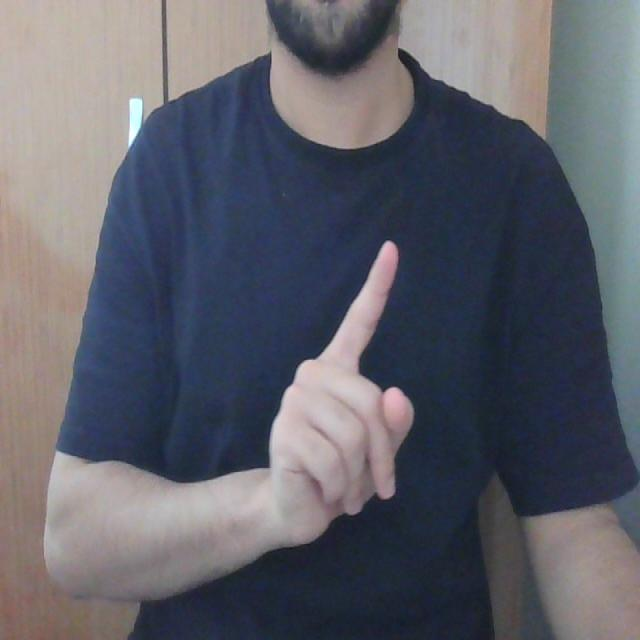Hayir: (266, 166, 422, 569)
